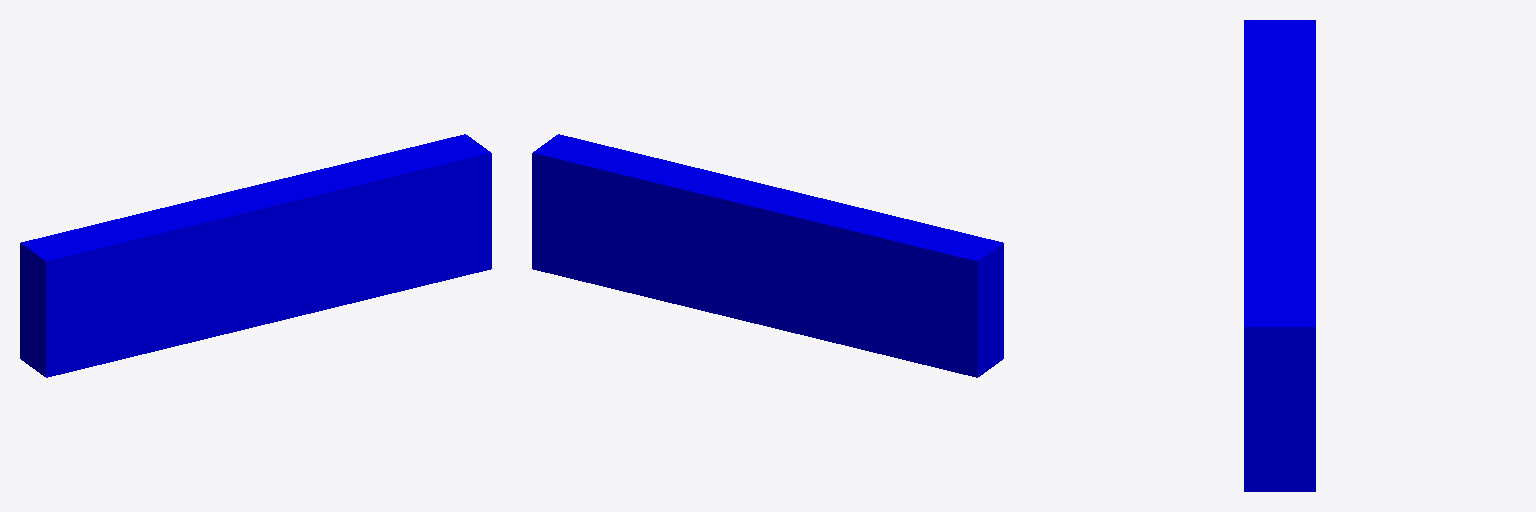
URDF robot description (plate2):
<?xml version="1.0" ?>
<robot name="plate2">
  <link concave="no" name="plateLink2">
  <contact>
      <lateral_friction value="2"/>
  </contact>
    <inertial>
      <origin rpy="0 0 0" xyz="-1 0.15 0"/>
       <mass value=".0"/>
       <inertia ixx="0" ixy="0" ixz="0" iyy="0" iyz="0" izz="0"/>
    </inertial>
    <visual>
      <origin rpy="0 0 0" xyz="-1 0.15 0"/>
      <geometry>
      	<box size="2 0.2 0.5"/>
      </geometry>
       <material name="blue">
        <color rgba="0 0 1 0.7"/>
      </material>
    </visual>
    <collision concave="no">
      <origin rpy="0 0 0" xyz="-1 0.15 0"/>
      <geometry>
      	<box size="2 0.2 0.5"/>
      </geometry>
    </collision>
  </link>
</robot>

--- Render facts (derived) ---
3 views of the same robot in one strip: view 1: azimuth 30°, elevation 25°; view 2: azimuth 150°, elevation 25°; view 3: azimuth 270°, elevation 25° (orthographic).
Robot: plate2 — 1 links, 0 joints (none); root link plateLink2; default pose: all joints at 0.
Links seen in each view (by area): view 1: plateLink2; view 2: plateLink2; view 3: plateLink2.
Link boxes in pixels (bbox=[...]): plateLink2: bbox=[20, 134, 491, 377]; plateLink2: bbox=[532, 134, 1003, 377]; plateLink2: bbox=[1244, 20, 1315, 491].
Bounding box of the posed robot: 2 × 0.2 × 0.5 m (x, y, z).
Geometry: primitives only (box / cylinder / sphere), no mesh files.